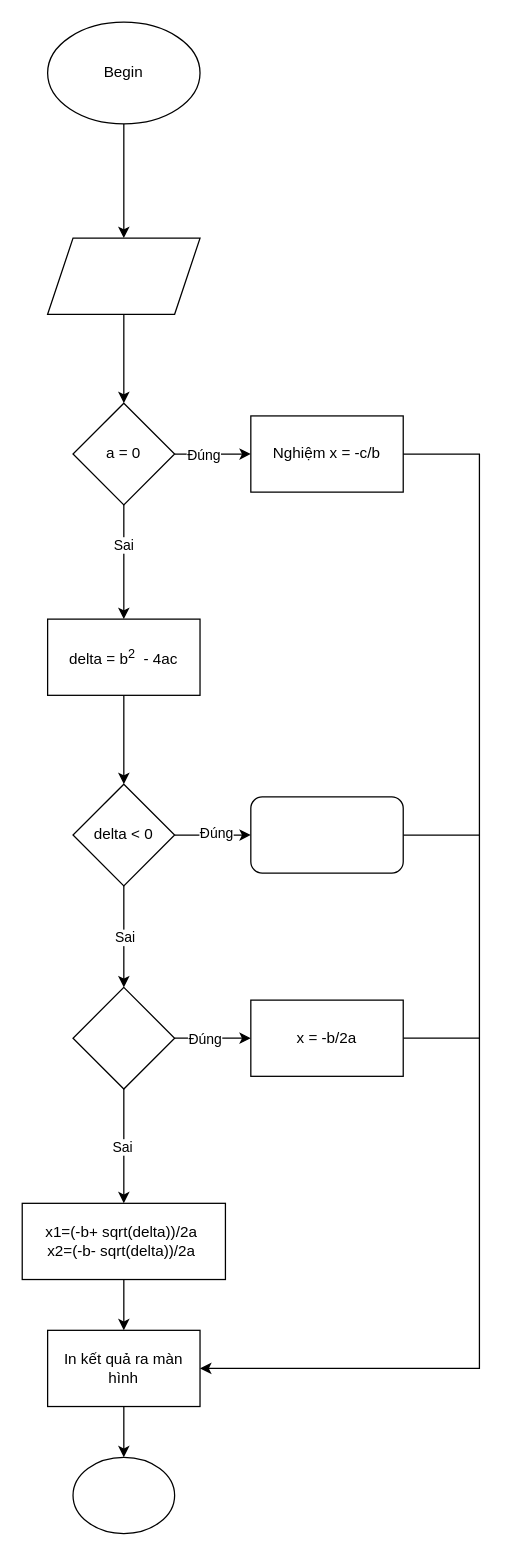
This 512x1556 diagram has some shape labels left out. Each missing label, with the box of its shape:
delta = 0: (72, 986, 175, 1089)
End: (72, 1456, 175, 1534)
Nhập a, b, c: (46, 237, 200, 314)
PT vô nghiệm: (250, 796, 403, 873)
